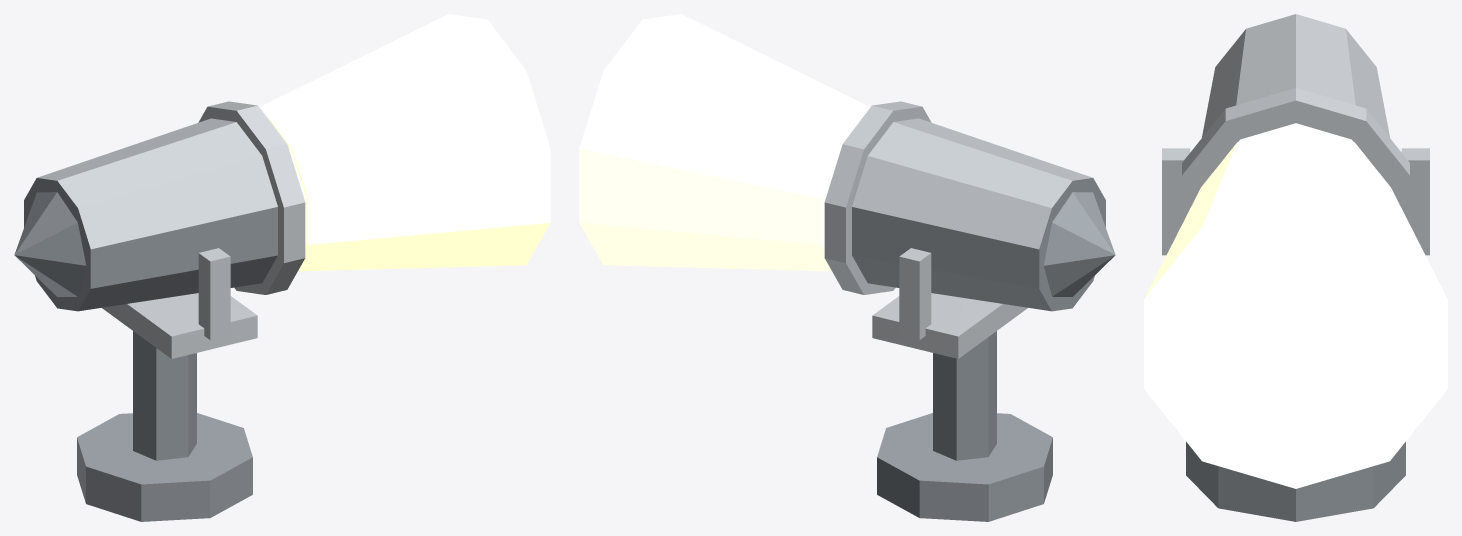
File: gd_motorboat_searchlight.glb
3 renders of one model, left to right at view 1: azimuth 30°, elevation 25°; view 2: azimuth 150°, elevation 25°; view 3: azimuth 270°, elevation 25°, orthographic. The views are drawn at different scales.
Parts seen in each view (by area): view 1: base; view 2: base; view 3: base.
Boxes of the visible parts, x1,y1,x2,y2 form: base: (14,14,550,521); base: (579,14,1115,521); base: (1144,14,1447,521).
Bounding box in the file's own units: 0.132 × 0.103 × 0.0609.
